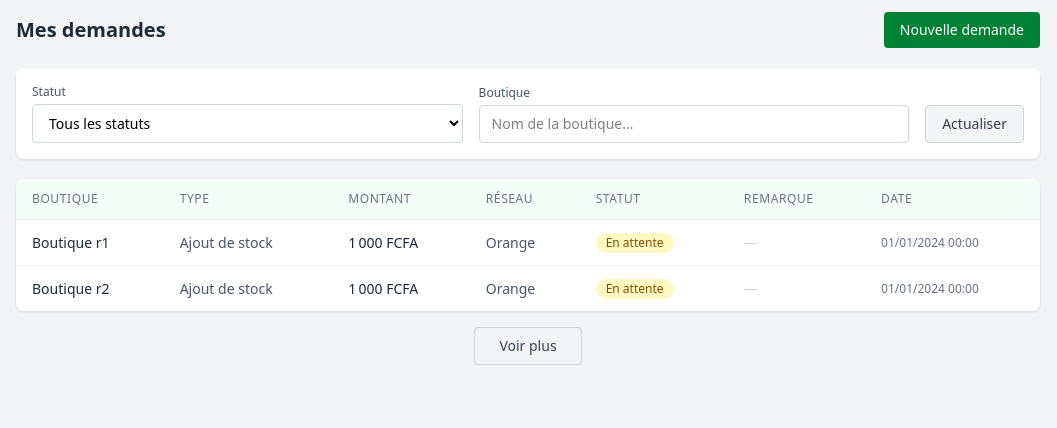
Test case: TC-080-CU — curseurs et hasMore › [CU-01] enchaînement : 1er loadMore = curseur snapshot, 2e = curseur pagination, fin = bouton masqué et protégé
The width and height of the screenshot is (1057, 428).
Expected: the element with test id "requests-table" is shown, left=16, top=179, right=1040, bottom=311
Step 1. Click the button with test id "btn-load-more" → (528, 346), box left=474, top=327, right=582, bottom=365
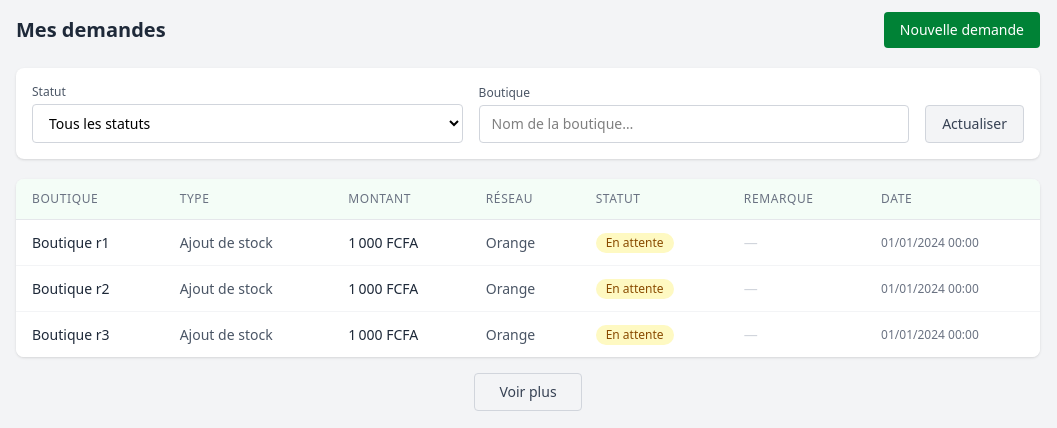
Now the row with test id "request-row-r3" is shown, box left=16, top=312, right=1040, bottom=357
Step 2. Click the button with test id "btn-load-more" → (528, 392), box left=474, top=373, right=582, bottom=411
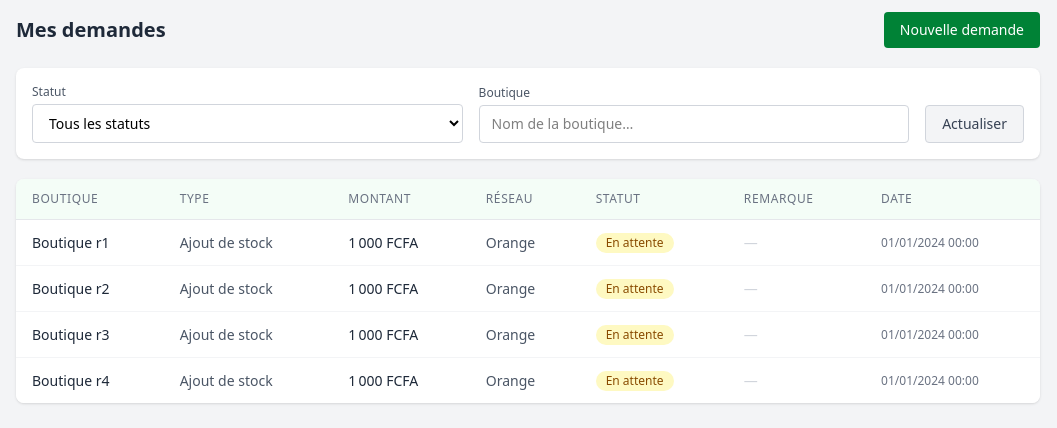
Now the row with test id "request-row-r3" is shown, box left=16, top=312, right=1040, bottom=358
Now the button with test id "btn-load-more" is gone
Now the row with test id "request-row-r4" is shown, box left=16, top=358, right=1040, bottom=403
